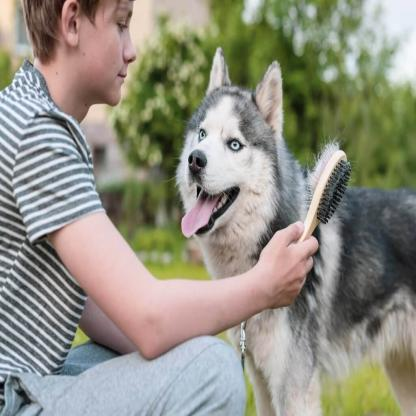dog: (179, 45, 416, 414)
